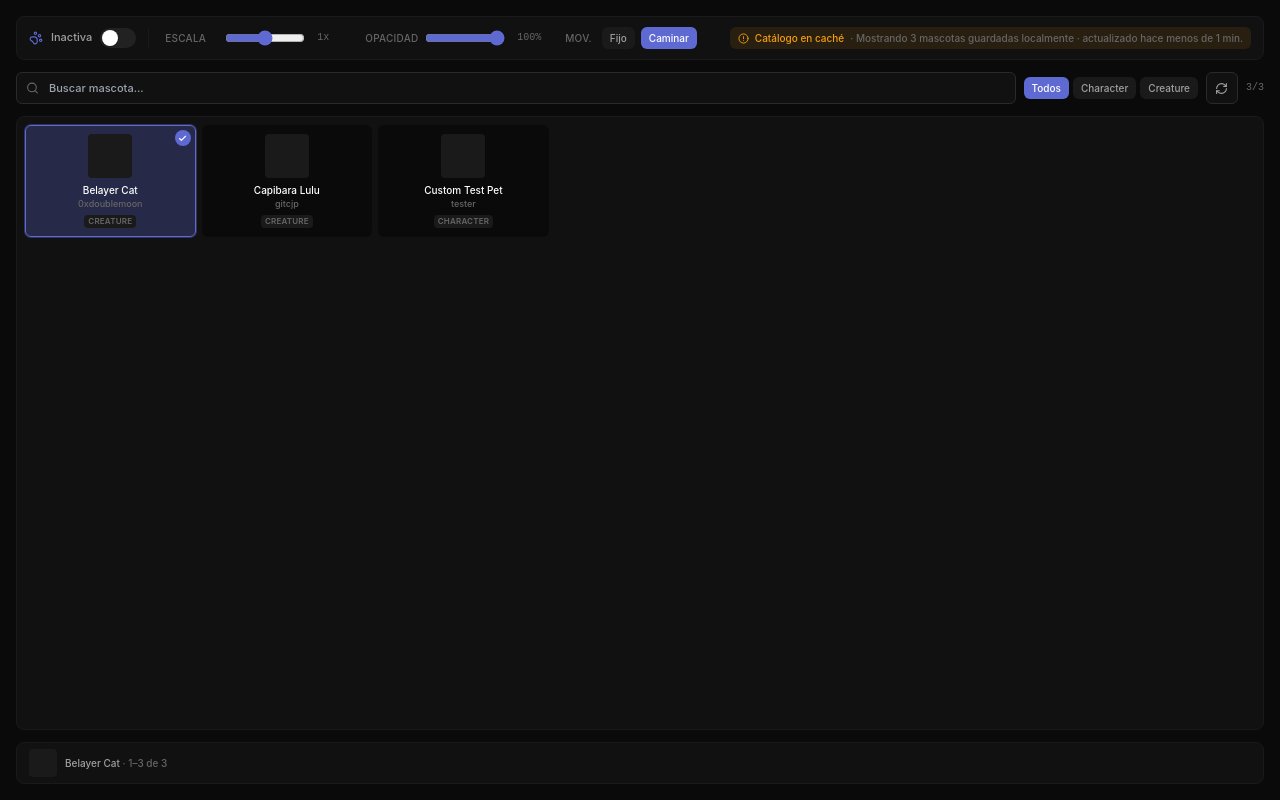
it: PetdexView › keeps the explicit refresh result when the background request finishes later
Step 1. Click the button named "Recargar catálogo" → click(1222, 88), box [1206,72,1238,104]
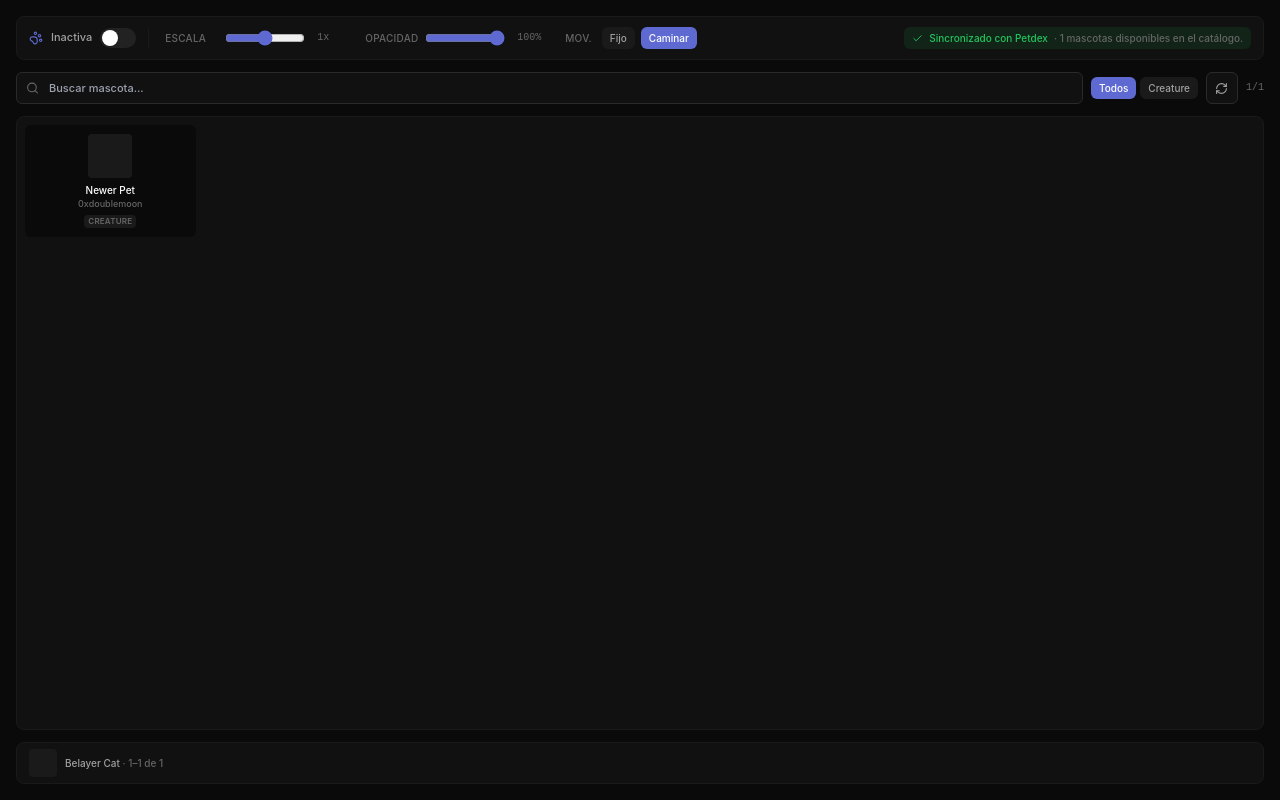
Expected: the text "Newer Pet" is shown, [86,184,135,196]
